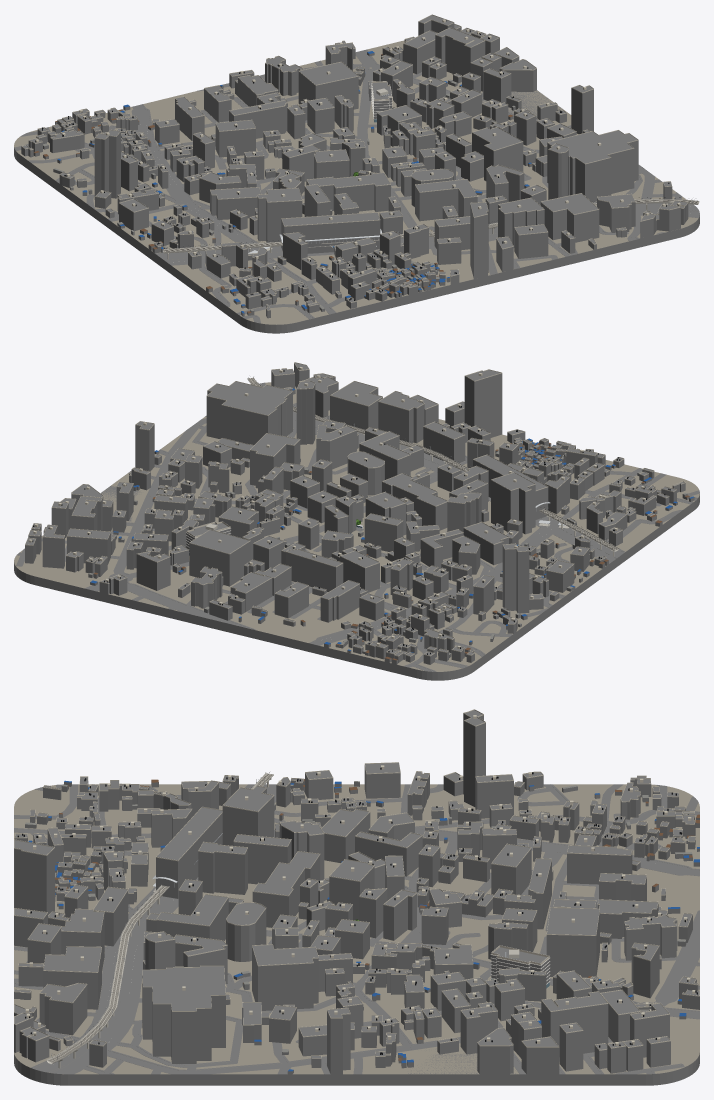
Rendered from vaman-techno-centre.glb.
The picture shows the model from 3 angles, top to bottom: view 1: azimuth 30°, elevation 25°; view 2: azimuth 150°, elevation 25°; view 3: azimuth 270°, elevation 25°; orthographic projection. The views are drawn at different scales.
Parts seen in each view (by area): view 1: context, ground, plinth, rooftops, metro, opt_vaman-techno-centre; view 2: context, ground, plinth, rooftops, metro, opt_vaman-techno-centre; view 3: context, ground, plinth, rooftops, metro, opt_vaman-techno-centre.
Boxes of the visible parts, x1,y1,x2,y2 form: context: (21,14,688,318); ground: (14,40,699,324); plinth: (14,147,699,333); rooftops: (35,19,680,300); metro: (163,196,699,259); opt_vaman-techno-centre: (371,81,394,122); context: (25,362,694,664); ground: (14,382,699,671); plinth: (14,494,699,680); rooftops: (28,367,670,654); metro: (247,376,618,556); opt_vaman-techno-centre: (186,521,230,555); context: (14,709,699,1074); ground: (14,784,699,1074); plinth: (14,1053,699,1085); rooftops: (17,715,697,1054); metro: (46,772,273,1068); opt_vaman-techno-centre: (490,945,550,988).
Bounding box in the file's own units: 761 × 116 × 760.
